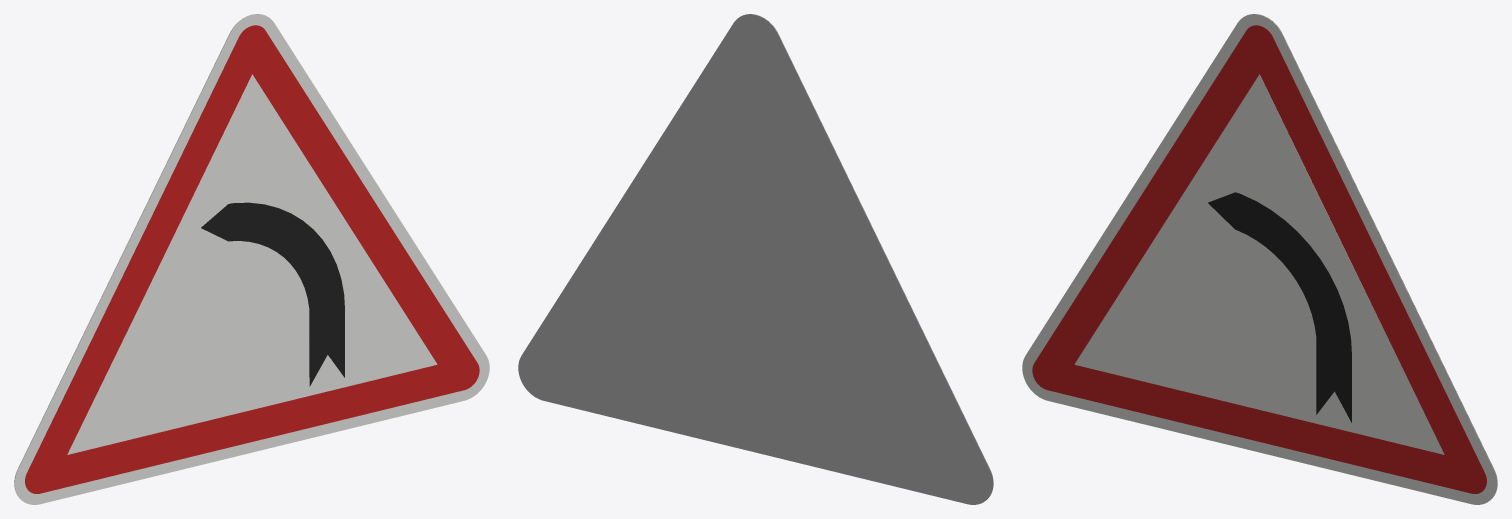
3 views of the same model, side by side, from view 1: azimuth 30°, elevation 25°; view 2: azimuth 150°, elevation 25°; view 3: azimuth 330°, elevation 25° (orthographic).
Visible parts, largest first — view 1: A1b_p02, A1b_p01, A1b_p00, A1b_p03, A1b_dos; view 2: A1b_dos, A1b_p00; view 3: A1b_p02, A1b_p01, A1b_p00, A1b_p03, A1b_dos.
Boxes of the visible parts, x1=… form: A1b_p02: x1=67, y1=74, x2=437, y2=454; A1b_p01: x1=25, y1=25, x2=479, y2=493; A1b_p00: x1=14, y1=14, x2=489, y2=504; A1b_p03: x1=201, y1=202, x2=344, y2=386; A1b_dos: x1=14, y1=14, x2=265, y2=500; A1b_dos: x1=518, y1=14, x2=993, y2=504; A1b_p00: x1=742, y1=14, x2=993, y2=500; A1b_p02: x1=1074, y1=74, x2=1444, y2=454; A1b_p01: x1=1032, y1=25, x2=1486, y2=493; A1b_p00: x1=1022, y1=14, x2=1497, y2=504; A1b_p03: x1=1208, y1=192, x2=1351, y2=422; A1b_dos: x1=1246, y1=14, x2=1497, y2=500.
Bounding box in the file's own units: 1 × 0.8803 × 0.0031.
